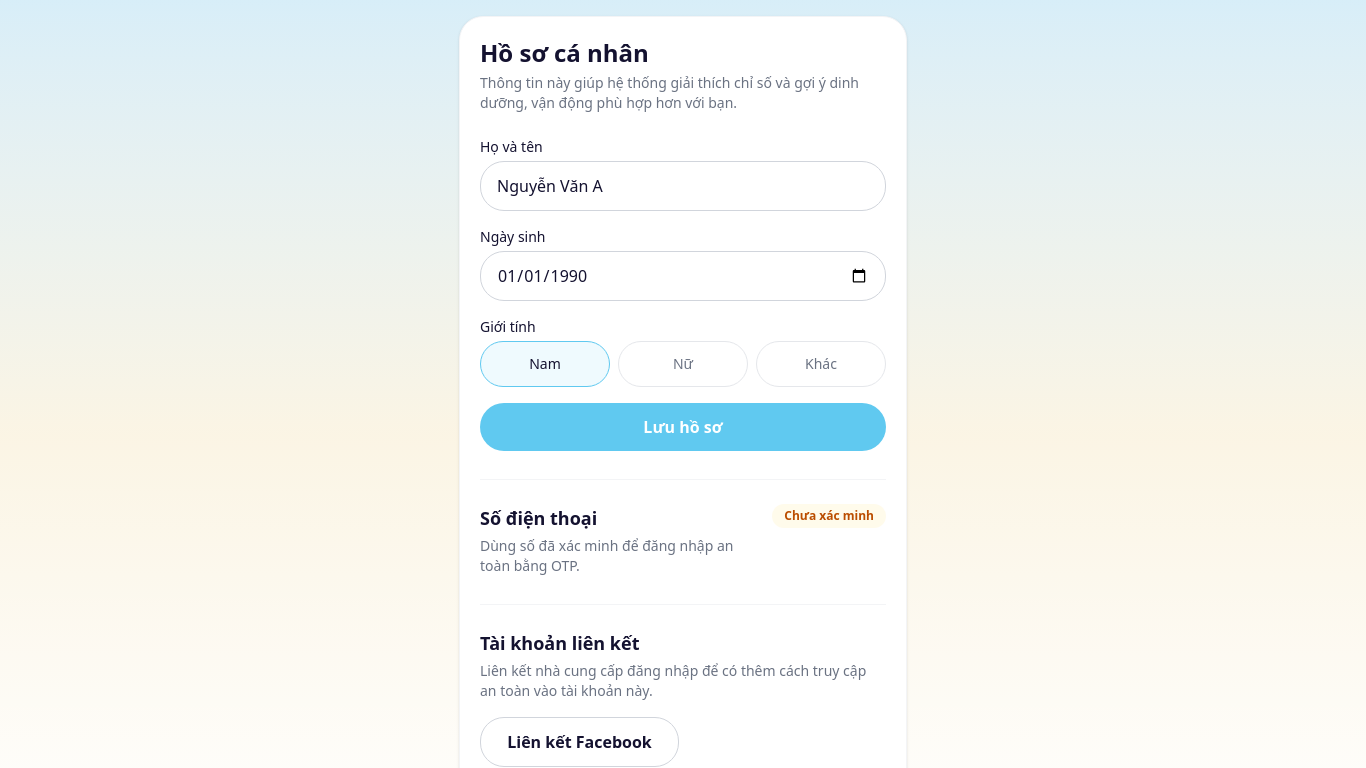
ProfilePage provider linking › shows safe UI and never navigates for a mismatched provider response
The image size is (1366, 768).
Click the button "Liên kết Facebook". click: click(580, 742)
box: 480,717 -> 679,767
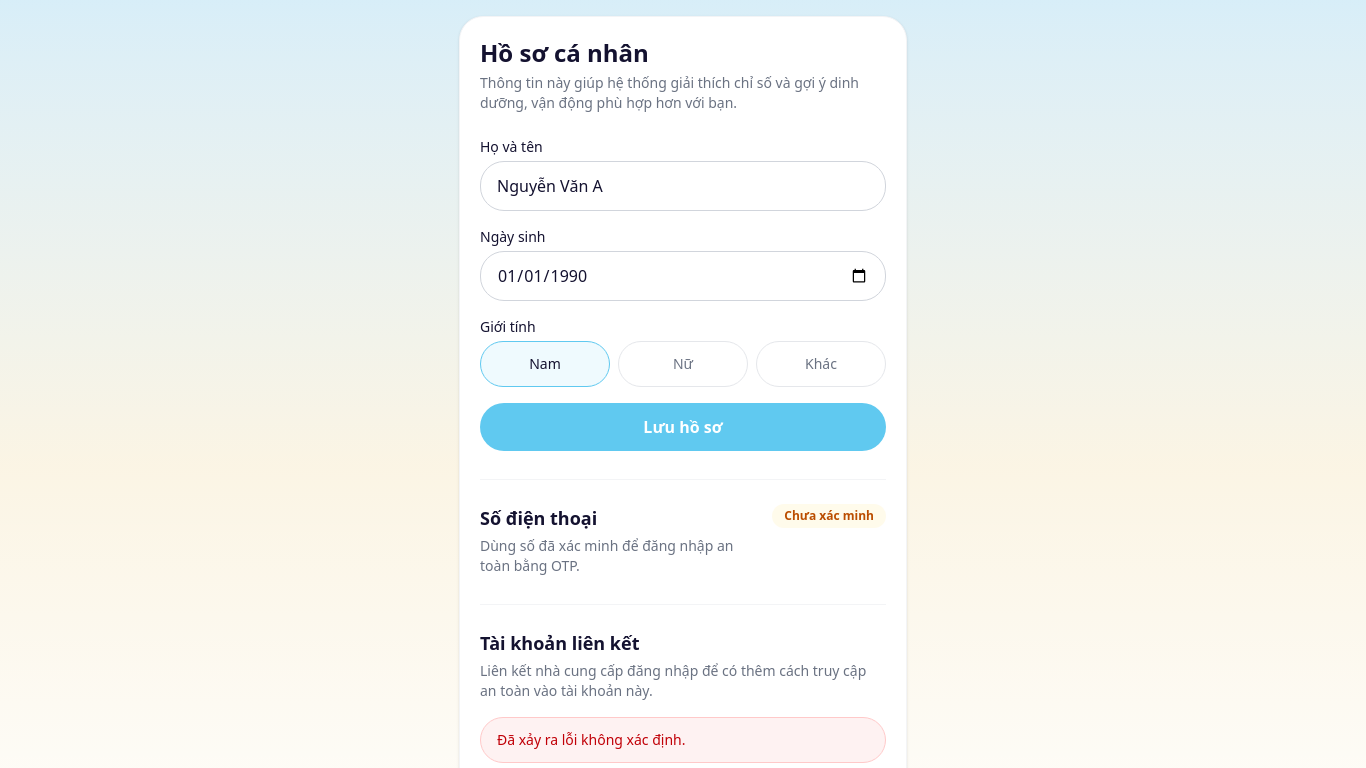
expect the text "Đã xảy ra lỗi không xác định." is shown: met, box 480,717 -> 886,763
